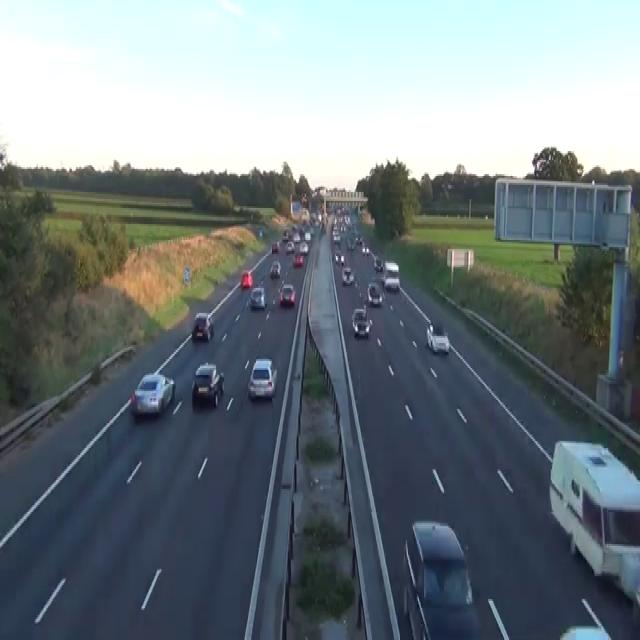Car: (558, 598, 613, 638), (129, 372, 175, 416), (191, 363, 224, 407), (247, 357, 277, 400), (559, 624, 613, 638), (426, 322, 449, 354), (192, 311, 213, 341), (351, 308, 372, 338), (248, 286, 266, 310), (367, 281, 383, 306), (279, 282, 295, 306), (341, 265, 354, 284), (240, 270, 252, 288), (269, 260, 281, 278), (384, 260, 399, 274), (384, 276, 399, 290), (293, 250, 303, 266), (373, 256, 382, 272), (334, 251, 344, 265), (299, 240, 308, 254), (346, 235, 355, 249), (300, 192, 308, 206), (332, 231, 340, 244), (282, 229, 290, 242), (271, 240, 279, 252), (286, 240, 294, 252), (361, 244, 369, 256), (334, 251, 340, 263), (355, 233, 362, 243), (304, 231, 311, 240), (293, 233, 300, 242), (259, 228, 262, 236)
Truck: (548, 439, 639, 605), (402, 519, 481, 638)
